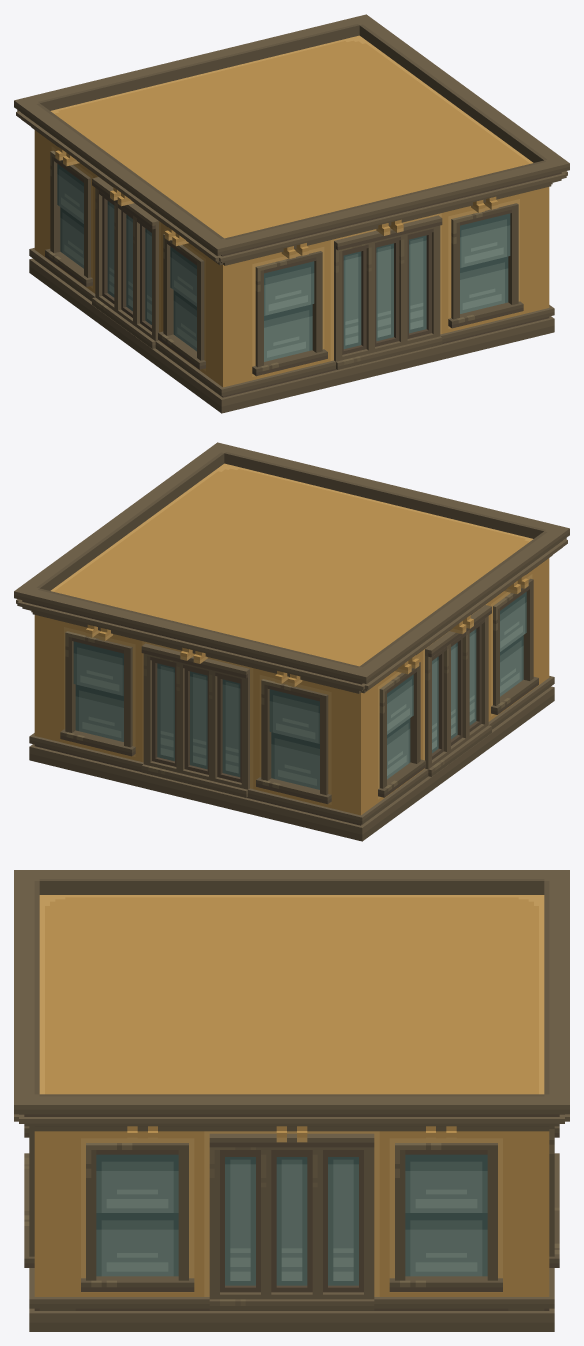
Rendered from Voxel City-6-Building Block_Yellow_B-4.obj.
3 renders of one model, top to bottom at view 1: azimuth 30°, elevation 25°; view 2: azimuth 150°, elevation 25°; view 3: azimuth 270°, elevation 25°, orthographic. The views are drawn at different scales.
Parts seen in each view (by area): view 1: Building Block_Yellow_B-4; view 2: Building Block_Yellow_B-4; view 3: Building Block_Yellow_B-4.
Part boxes in pixels (x1,y1,x2,y2): Building Block_Yellow_B-4: (14,14,569,413); Building Block_Yellow_B-4: (14,442,569,841); Building Block_Yellow_B-4: (14,870,569,1331).
Bounding box in the file's own units: 5.4 × 2.5 × 5.4.
1 material, 1 textured.
